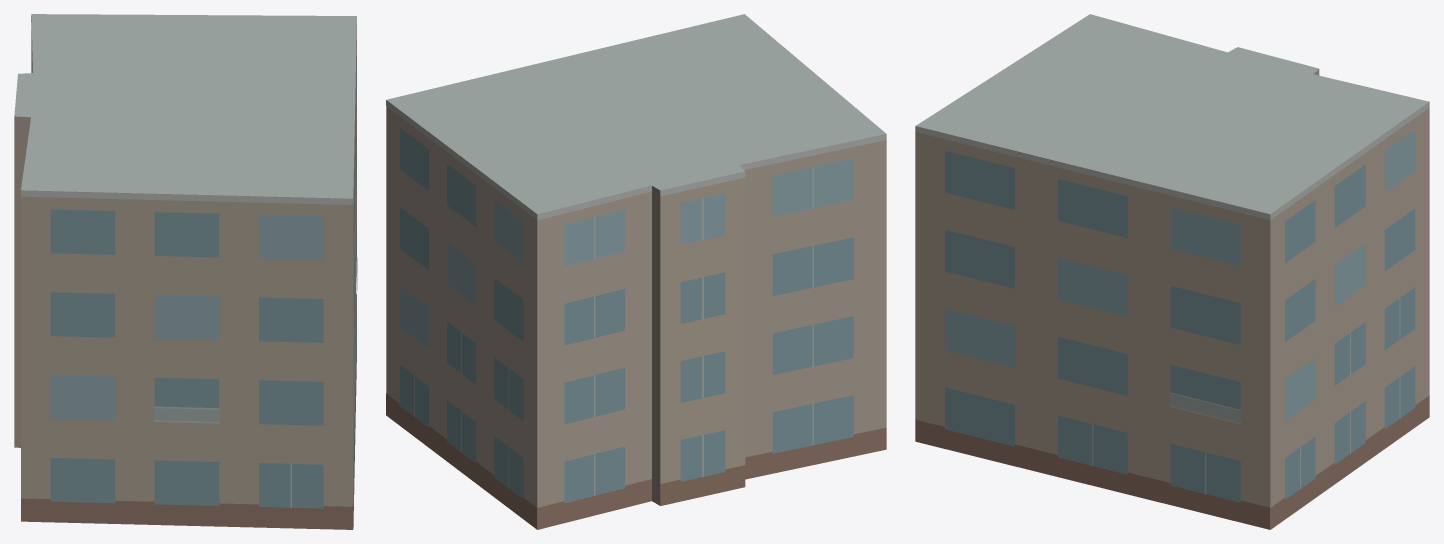
File: survey-upis-32634547.glb
3 renders of one model, left to right at view 1: azimuth 30°, elevation 25°; view 2: azimuth 150°, elevation 25°; view 3: azimuth 270°, elevation 25°, orthographic. The views are drawn at different scales.
Visible parts, largest first — view 1: survey-upis-32634547.tmp; view 2: survey-upis-32634547.tmp; view 3: survey-upis-32634547.tmp.
Boxes of the visible parts, x1,y1,x2,y2 form: survey-upis-32634547.tmp: [14, 14, 357, 529]; survey-upis-32634547.tmp: [386, 14, 886, 529]; survey-upis-32634547.tmp: [915, 14, 1429, 529].
Bounding box in the file's own units: 17.43 × 12.8 × 18.91.
